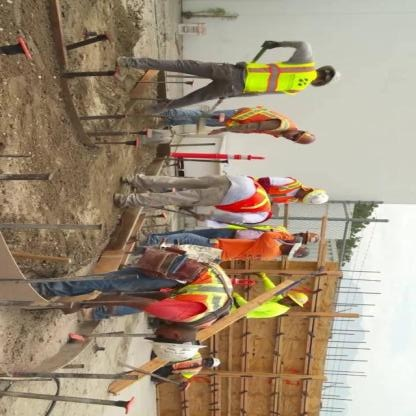vest: (175, 263, 236, 328), (235, 56, 318, 97), (217, 172, 278, 220), (224, 104, 301, 139), (256, 175, 305, 206), (168, 354, 208, 376)
white: (137, 341, 211, 364), (315, 63, 347, 89), (303, 190, 332, 206), (204, 356, 227, 369)
yellow: (287, 291, 311, 310)
